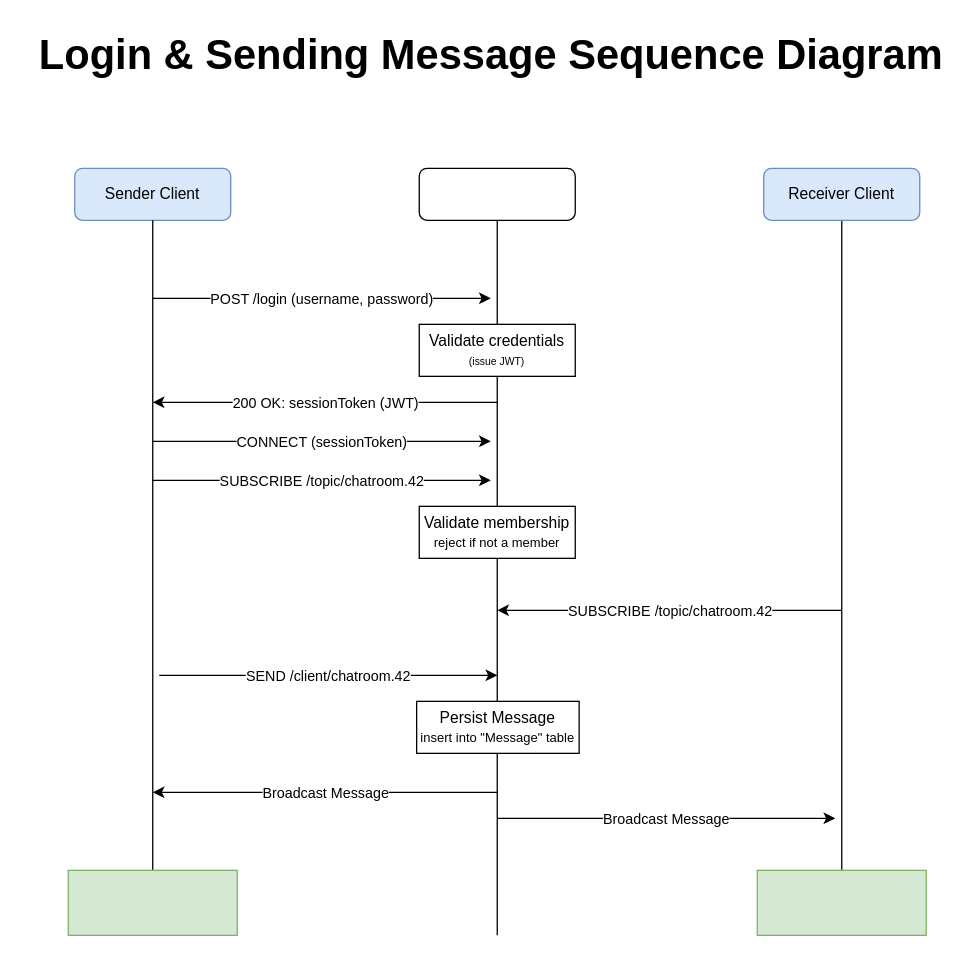
Some shapes in this 980 by 959 pixel diagram are drawn without their labels. The shapes that lost their labels are listed below. From the top down, each one's box as (x1, y1, x2, y2) in pixels, then its label:
(418, 167, 575, 220): Spring Backend
(67, 869, 237, 935): Render Message in UI own message confirmed sent
(756, 869, 926, 935): Render Message in UI append message to list of messages
